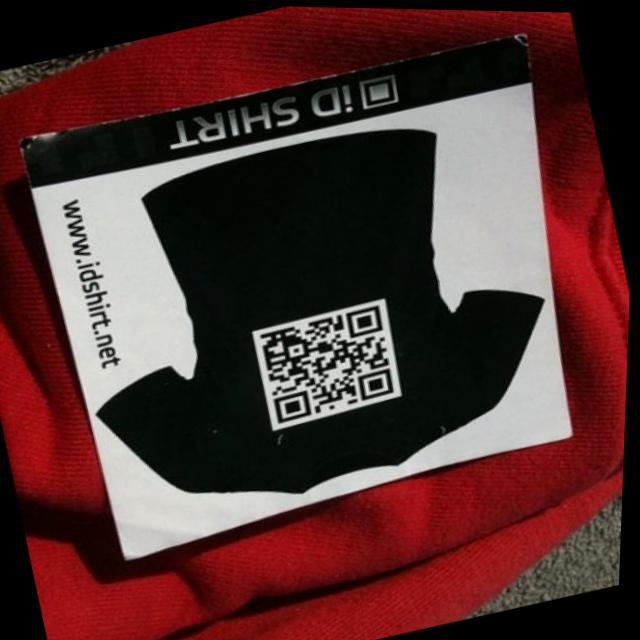qrcode: (259, 302, 402, 422)
